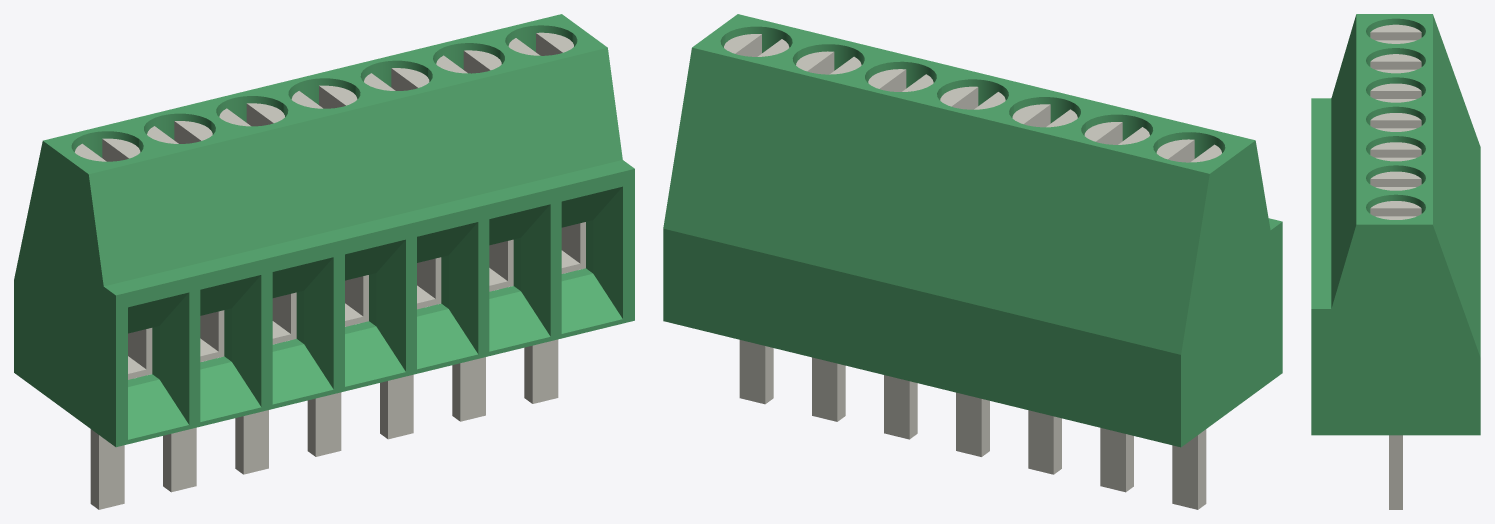
The model's file is kc-terminalblock_phoenix_mpt-0_5-7-2.54_1x07_p2.54mm_horizontal.glb.
The picture shows the model from 3 angles, left to right: view 1: azimuth 30°, elevation 25°; view 2: azimuth 150°, elevation 25°; view 3: azimuth 270°, elevation 25°; orthographic projection. The views are drawn at different scales.
Parts seen in each view (by area): view 1: 0.08333333333333333_0.4166666666666667_0.16666666666666666_0, 0.6666666666666666_0.6666666666666666_0.5833333333333334_0.8; view 2: 0.08333333333333333_0.4166666666666667_0.16666666666666666_0, 0.6666666666666666_0.6666666666666666_0.5833333333333334_0.8; view 3: 0.08333333333333333_0.4166666666666667_0.16666666666666666_0, 0.6666666666666666_0.6666666666666666_0.5833333333333334_0.8.
Part boxes in pixels (bbox=[...]): 0.08333333333333333_0.4166666666666667_0.16666666666666666_0: bbox=[14, 14, 634, 447]; 0.6666666666666666_0.6666666666666666_0.5833333333333334_0.8: bbox=[74, 32, 585, 509]; 0.08333333333333333_0.4166666666666667_0.16666666666666666_0: bbox=[663, 14, 1282, 447]; 0.6666666666666666_0.6666666666666666_0.5833333333333334_0.8: bbox=[724, 34, 1221, 509]; 0.08333333333333333_0.4166666666666667_0.16666666666666666_0: bbox=[1311, 14, 1480, 435]; 0.6666666666666666_0.6666666666666666_0.5833333333333334_0.8: bbox=[1370, 24, 1421, 509].
Bounding box in the file's own units: 1.82 × 1.2 × 0.6199.
